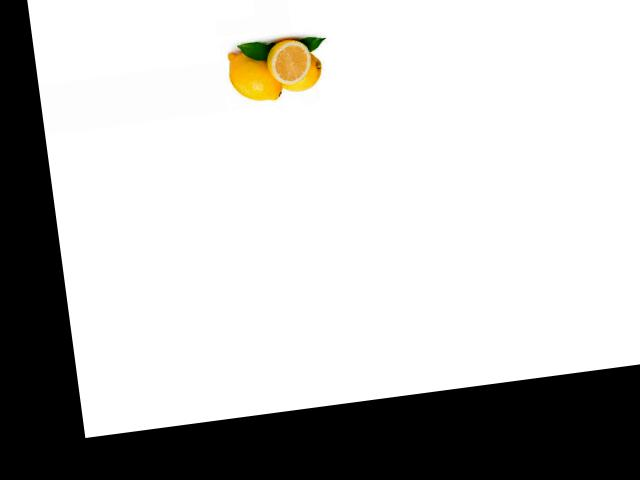lemon: (263, 32, 312, 86)
